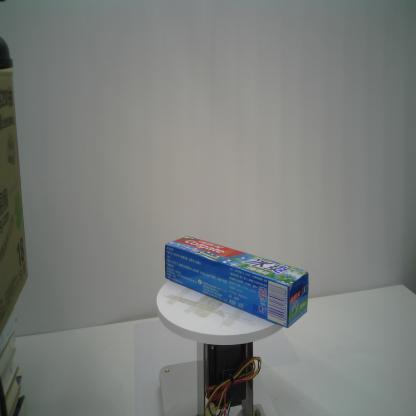Personal Hygiene: (164, 236, 310, 328)
